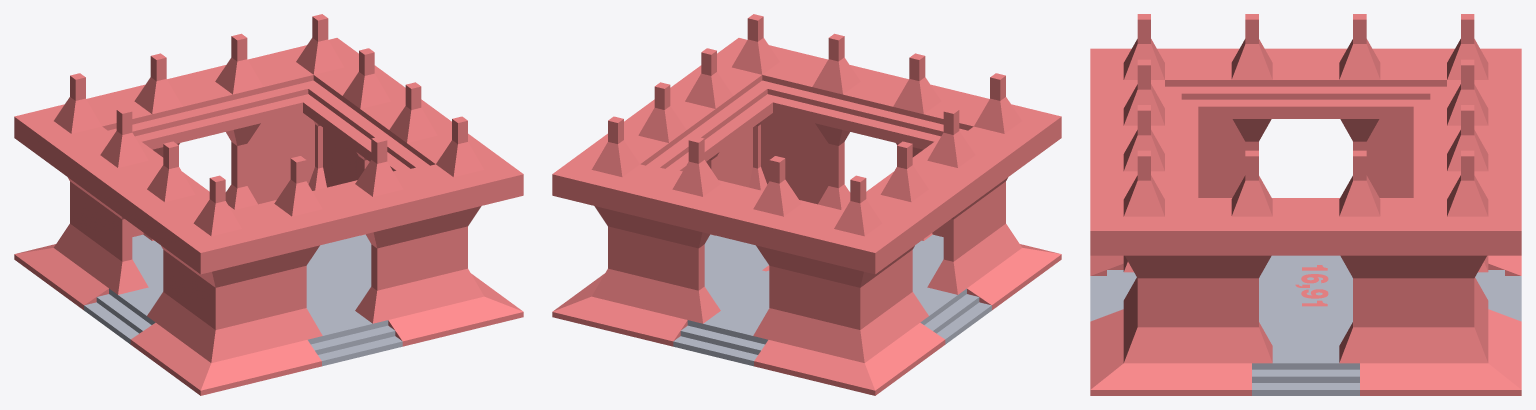
Rendered from folly_02.glb.
3 renders of one model, left to right at view 1: azimuth 30°, elevation 25°; view 2: azimuth 150°, elevation 25°; view 3: azimuth 270°, elevation 25°, orthographic. The views are drawn at different scales.
Parts seen in each view (by area): view 1: mass; view 2: mass; view 3: mass.
Part boxes in pixels (x1,y1,x2,y2): mass: [14, 14, 523, 395]; mass: [552, 14, 1061, 395]; mass: [1090, 14, 1521, 395].
Size of what is drawn, in the model's own units: 16 by 9 by 16.
